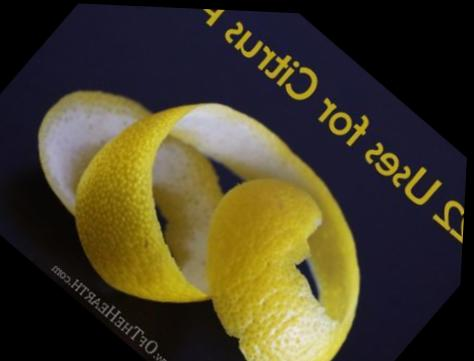organic: (0, 4, 473, 360), (153, 137, 356, 359)
